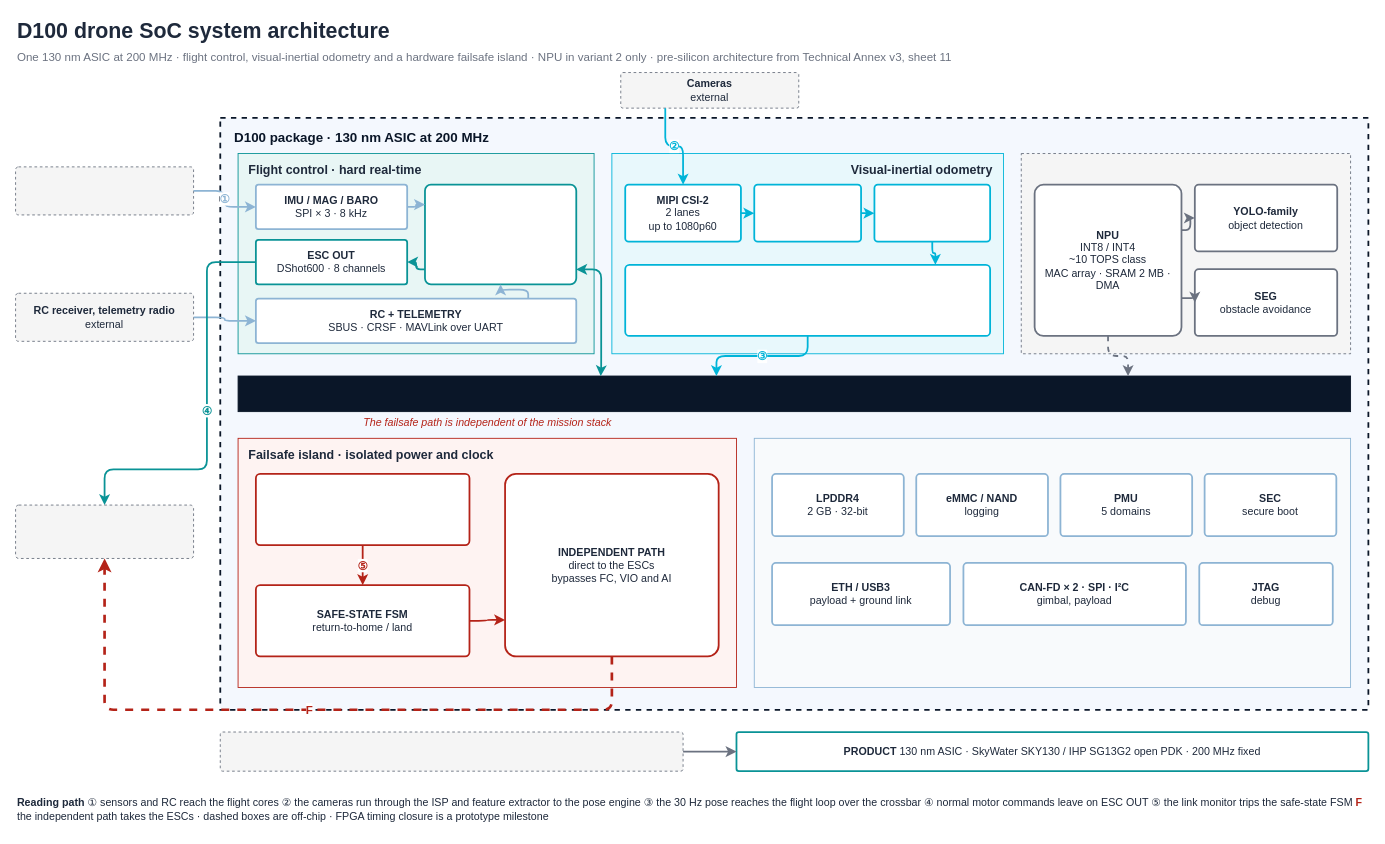
Some shapes in this 1385 by 844 pixel diagram are drawn without their labels. The box of each missing label's shape, as (x1, y1, x2, y2) in pixels:
AI · variant 2 only · 28 nm die: (1020, 153, 1351, 354)
AXI4 crossbar · 128-bit · 200 MHz: (237, 375, 1351, 412)
DGridRiscV × 2 RV32IM_Zicsr FC core + NAV core PX4 / ArduPilot loop: (424, 183, 577, 285)
ESCs and motors external: (15, 504, 194, 558)
FEATURE FAST + BRIEF 2k points per frame: (873, 183, 991, 242)
IMU · magnetometer · barometer external: (15, 166, 194, 215)
ISP rectify + LSC: (753, 183, 862, 242)
LINK MONITOR RC loss · GPS loss · IMU fault hardware, not firmware: (255, 473, 470, 546)
Platform: (753, 437, 1351, 688)
POSE ENGINE EKF · IMU pre-integration · sliding-window BA 30 Hz pose, 6-DoF: (624, 263, 991, 336)
PROTOTYPE Artix-7 FPGA · 81.25 MHz · validation only: (219, 731, 683, 771)
